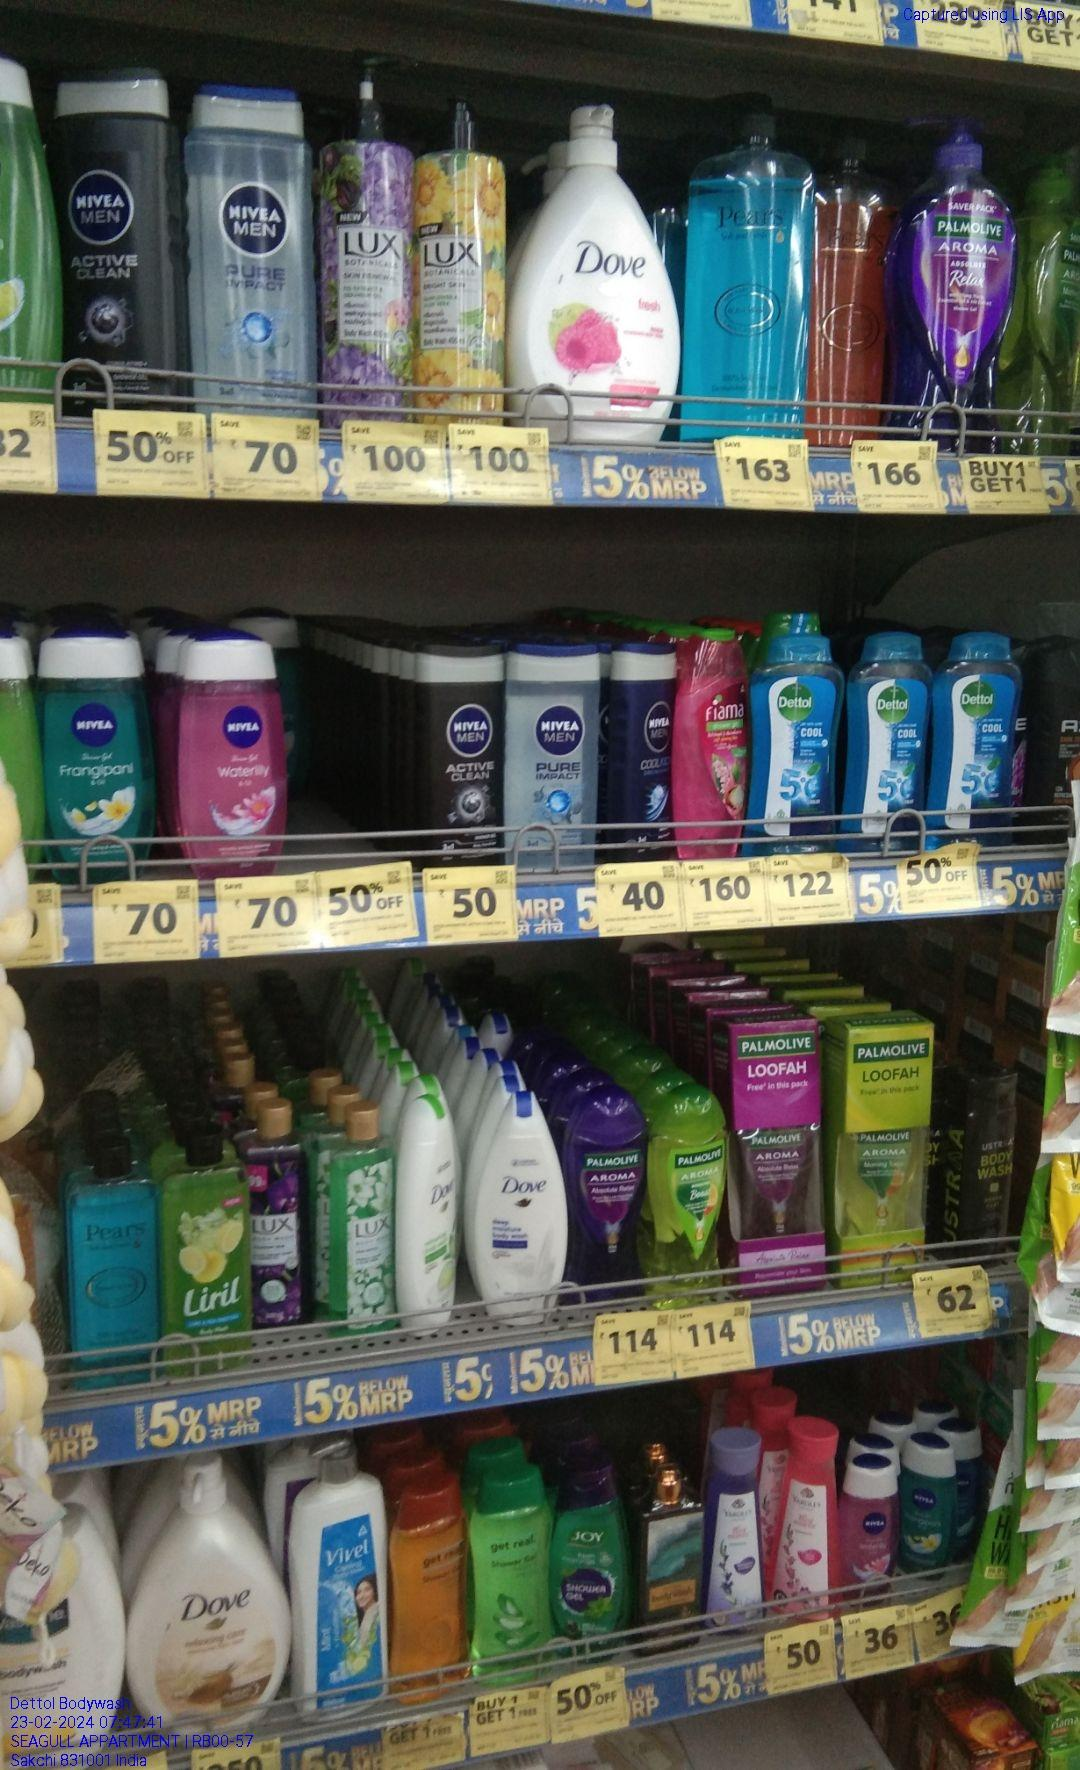Dettol_Bodywash_Cool: (933, 633, 1016, 842), (760, 640, 840, 850), (850, 625, 928, 836)
Dove_Deep_Moisture_Body_Wash_250ML: (477, 1092, 573, 1327)
Dove_Refreshing_Body_Wash_250ML: (398, 1091, 465, 1338)
Fiama_Shower_Gel_Patchouli_and_Macadamia_250ML: (675, 631, 742, 851)
Get_Real_Shower_Gel_Moisturising_Glycerin_300ML: (383, 1483, 474, 1698)
Joy_Shower_Gel_Mint_and_Eucalyptus_250ML: (550, 1458, 635, 1657)
Lux_Black_Orchid_Scent_and_Juniper_Oil_Body_Wash_245ML: (248, 1109, 314, 1339)
Lux_Body_Wash_Skin_Detox_Freesia_Scent_and_Alove_Vera_245ML: (334, 1105, 396, 1339)
Nivea_Shower_Gel_Frangipani_and_Oil_250ML: (44, 627, 154, 870)
Nivea_Shower_Gel_Waterlily_and_Oil_250ML: (176, 635, 288, 876)
Palmolive_Aroma_Morning_Tonic_Shower_Gel_250ML: (647, 1090, 726, 1315)
Palmolive_Aroma_Relax_250ML: (578, 1089, 644, 1296)
